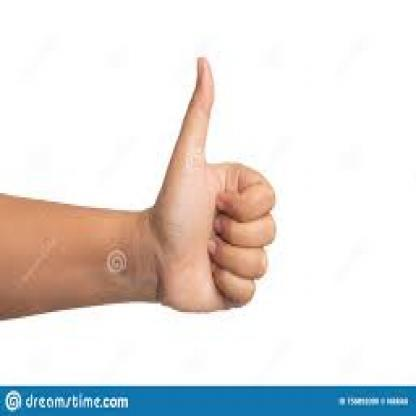thumb_up: (132, 46, 277, 314)
